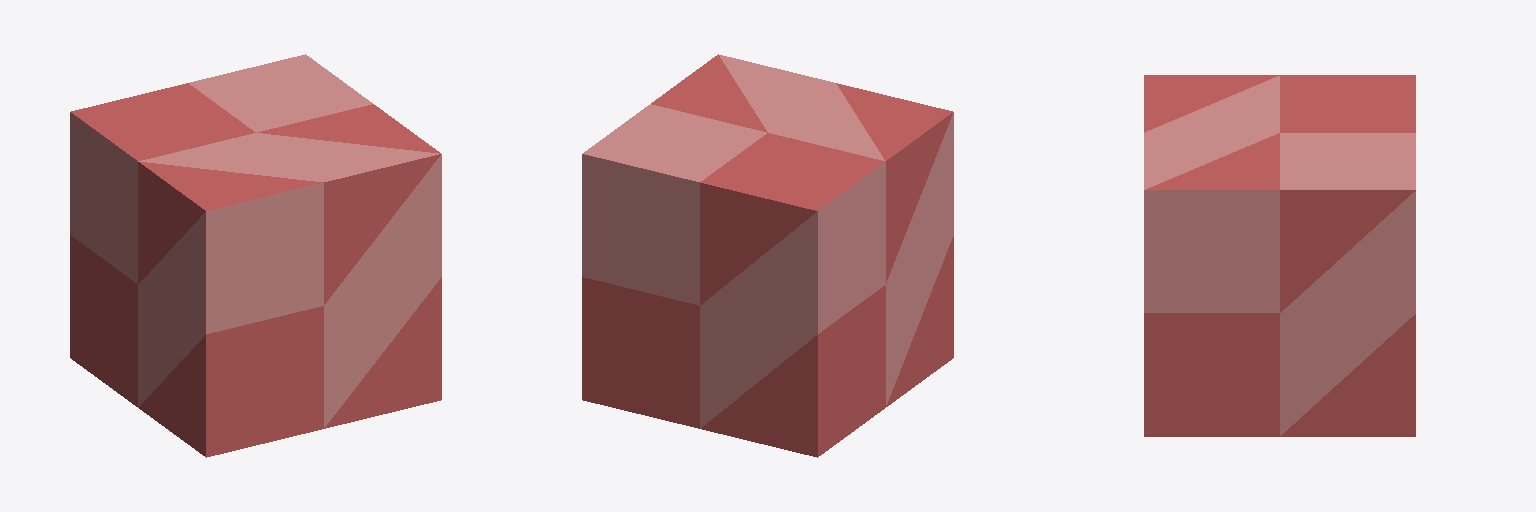
3 renders of one model, left to right at view 1: azimuth 30°, elevation 25°; view 2: azimuth 150°, elevation 25°; view 3: azimuth 270°, elevation 25°, orthographic.
Visible parts, largest first — view 1: Cube; view 2: Cube; view 3: Cube.
Boxes of the visible parts, x1,y1,x2,y2 form: Cube: [70, 54, 441, 457]; Cube: [582, 54, 953, 457]; Cube: [1144, 75, 1415, 436].
Bounding box in the file's own units: 8 × 8 × 8.
Materials: 1 (1 with a texture image).